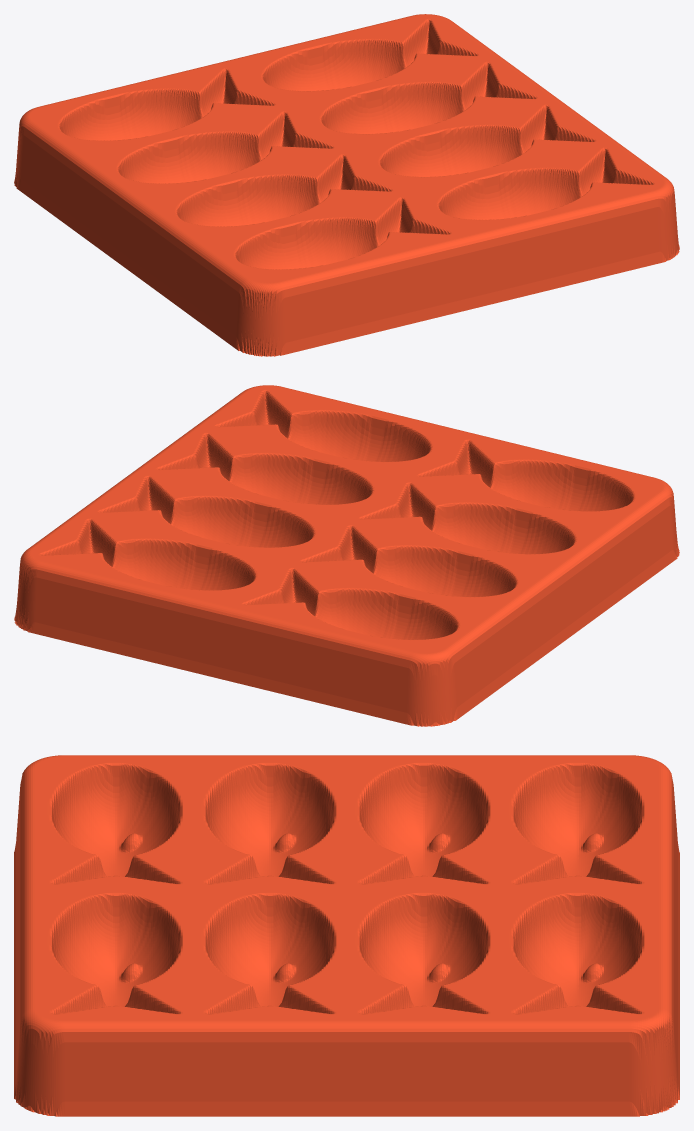
The model's file is mold.glb.
The picture shows the model from 3 angles, top to bottom: view 1: azimuth 30°, elevation 25°; view 2: azimuth 150°, elevation 25°; view 3: azimuth 270°, elevation 25°; orthographic projection. The views are drawn at different scales.
Parts seen in each view (by area): view 1: geometry_0; view 2: geometry_0; view 3: geometry_0.
Part boxes in pixels (x1=…): geometry_0: x1=14, y1=14, x2=679, y2=356; geometry_0: x1=14, y1=385, x2=679, y2=726; geometry_0: x1=14, y1=755, x2=679, y2=1116.
Bounding box in the file's own units: 0.1209 × 0.0175 × 0.1209.
